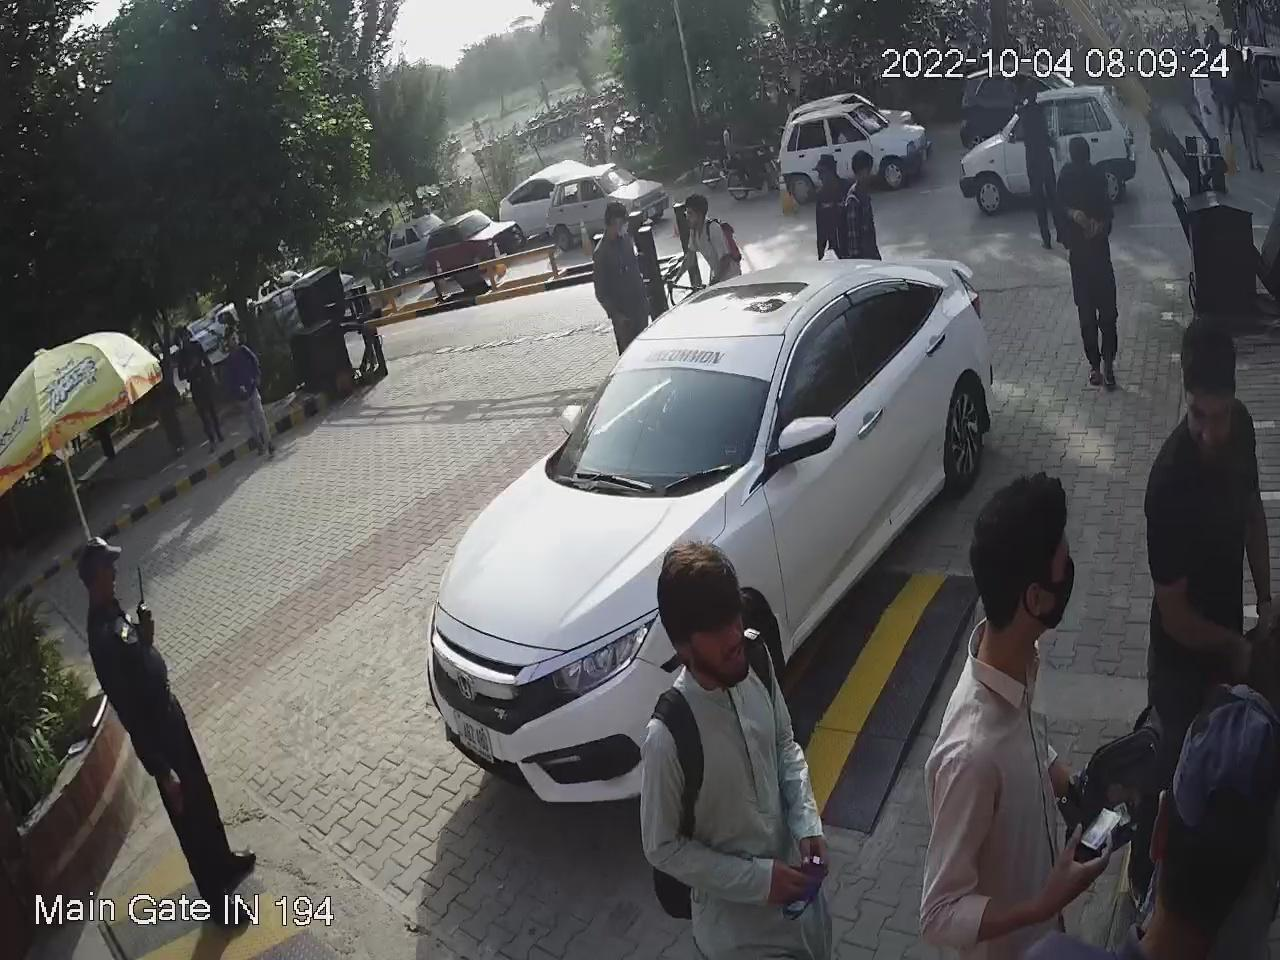windshield: (550, 328, 788, 495)
